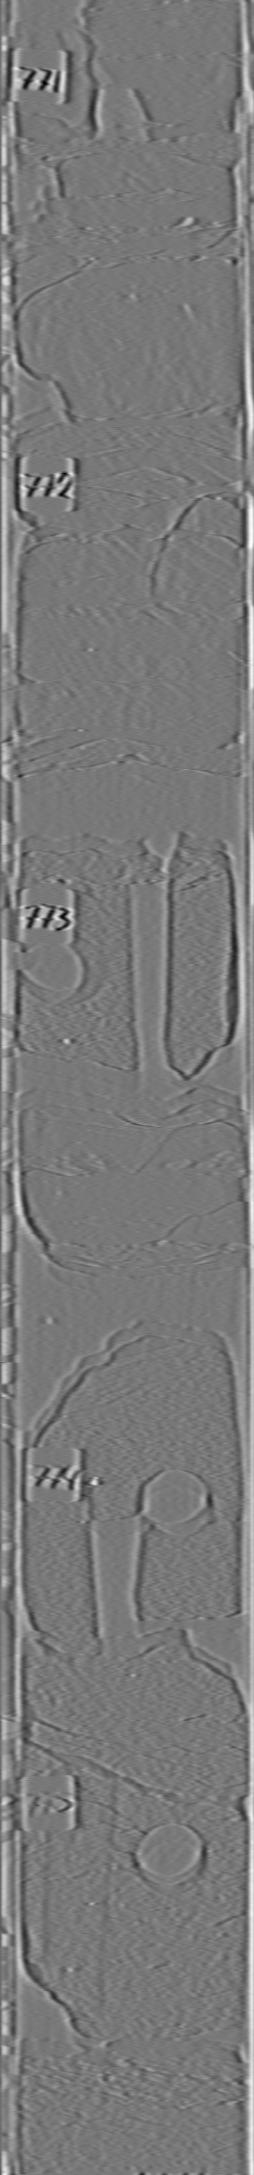hplug: (21, 927, 112, 1013), (128, 1817, 214, 1898), (136, 1463, 219, 1544)
vplug: (33, 1759, 121, 2050), (79, 1475, 150, 1658), (119, 872, 176, 1068)
